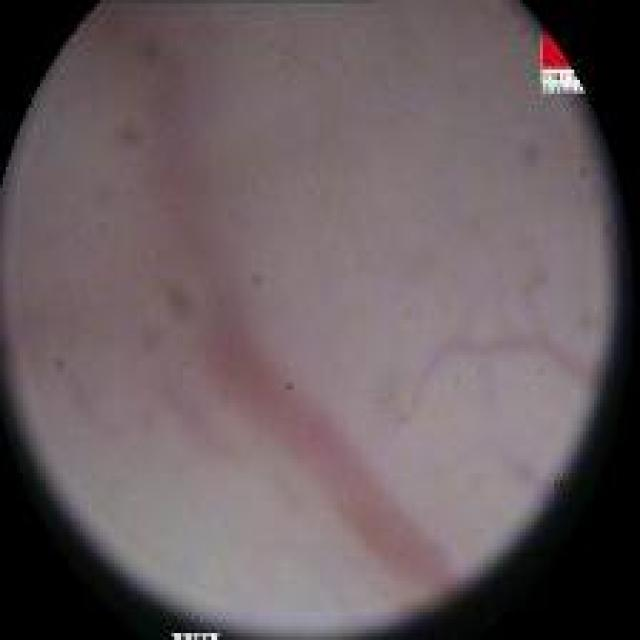blur: (14, 18, 622, 613)
color misalignment: (534, 28, 600, 101), (110, 98, 145, 159), (154, 269, 194, 320), (38, 345, 80, 391), (596, 202, 621, 254), (513, 129, 541, 167), (273, 367, 303, 401), (165, 623, 221, 639), (545, 470, 570, 501), (568, 157, 593, 186), (245, 261, 269, 291), (449, 367, 471, 396), (273, 51, 297, 76), (330, 45, 349, 72), (533, 359, 548, 387)
